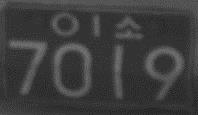0: (52, 41, 94, 98), (50, 10, 80, 36)
1: (101, 44, 137, 100), (86, 12, 107, 37)
7: (6, 37, 47, 97)
9: (143, 44, 186, 101)
소: (114, 12, 145, 40)
